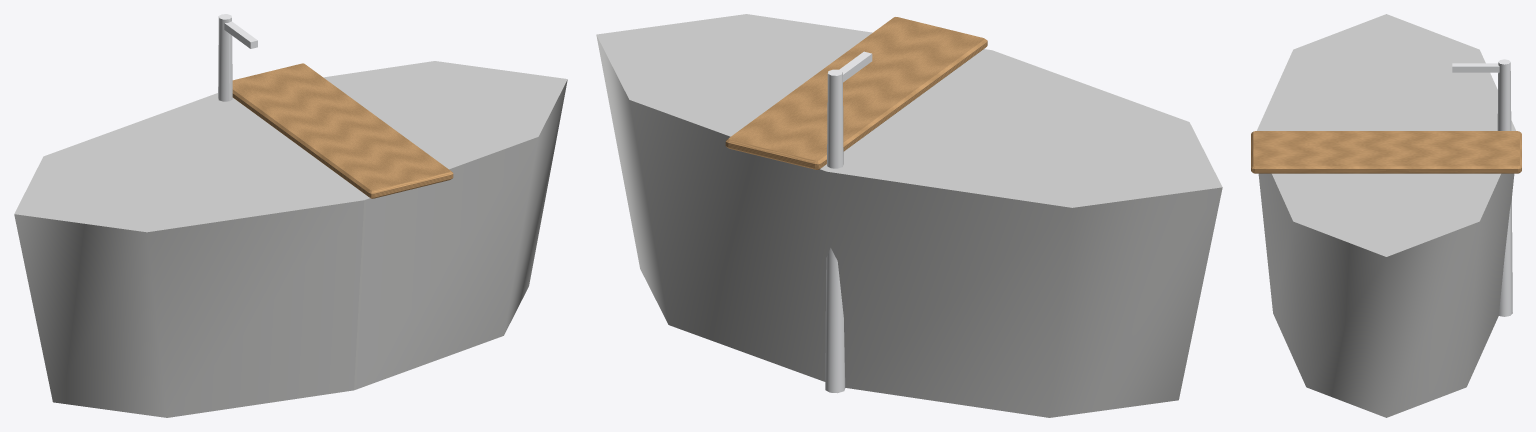
The model's file is bathtub_modern.glb.
3 views of the same model, side by side, from view 1: azimuth 30°, elevation 25°; view 2: azimuth 150°, elevation 25°; view 3: azimuth 270°, elevation 25° (orthographic). The views are drawn at different scales.
Parts seen in each view (by area): view 1: bathtub_modern_ceramicWhite, bathtub_modern_woodOak, bathtub_modern_metalChrome; view 2: bathtub_modern_ceramicWhite, bathtub_modern_woodOak, bathtub_modern_metalChrome; view 3: bathtub_modern_ceramicWhite, bathtub_modern_woodOak, bathtub_modern_metalChrome.
Part boxes in pixels (left/top/right/bottom): bathtub_modern_ceramicWhite: left=14, top=61, right=567, bottom=417; bathtub_modern_woodOak: left=232, top=63, right=453, bottom=198; bathtub_modern_metalChrome: left=218, top=14, right=257, bottom=101; bathtub_modern_ceramicWhite: left=596, top=14, right=1222, bottom=417; bathtub_modern_woodOak: left=725, top=17, right=987, bottom=169; bathtub_modern_metalChrome: left=825, top=51, right=872, bottom=393; bathtub_modern_ceramicWhite: left=1257, top=14, right=1515, bottom=417; bathtub_modern_woodOak: left=1251, top=131, right=1521, bottom=173; bathtub_modern_metalChrome: left=1452, top=59, right=1512, bottom=316.
Size of what is drawn, in the model's own units: 1.7 by 0.82 by 0.8.
4 materials, 1 textured.
